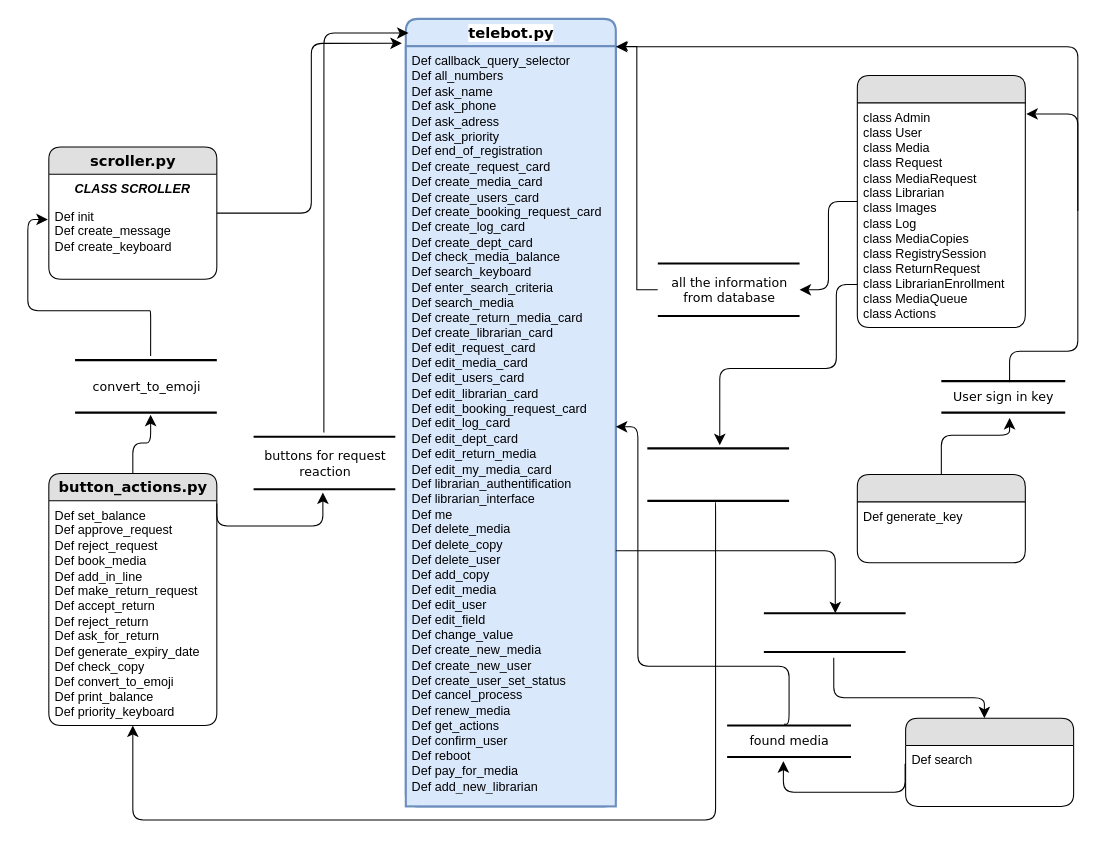
Image size: 1107x849. Some labels were removed from this diagram. Here are the shapes that lost their labels. From the top down, the box of each, then its label:
(856, 75, 1025, 328): database.py
(646, 447, 790, 501): information about current user, requests and media
(856, 474, 1025, 563): key_generator.py
(762, 612, 906, 653): search criteria search parameter
(905, 717, 1074, 806): search_engine.py
